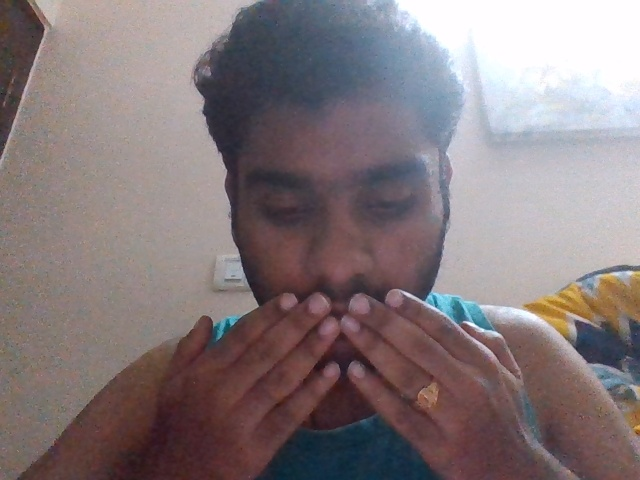thank you: (146, 287, 547, 477)
